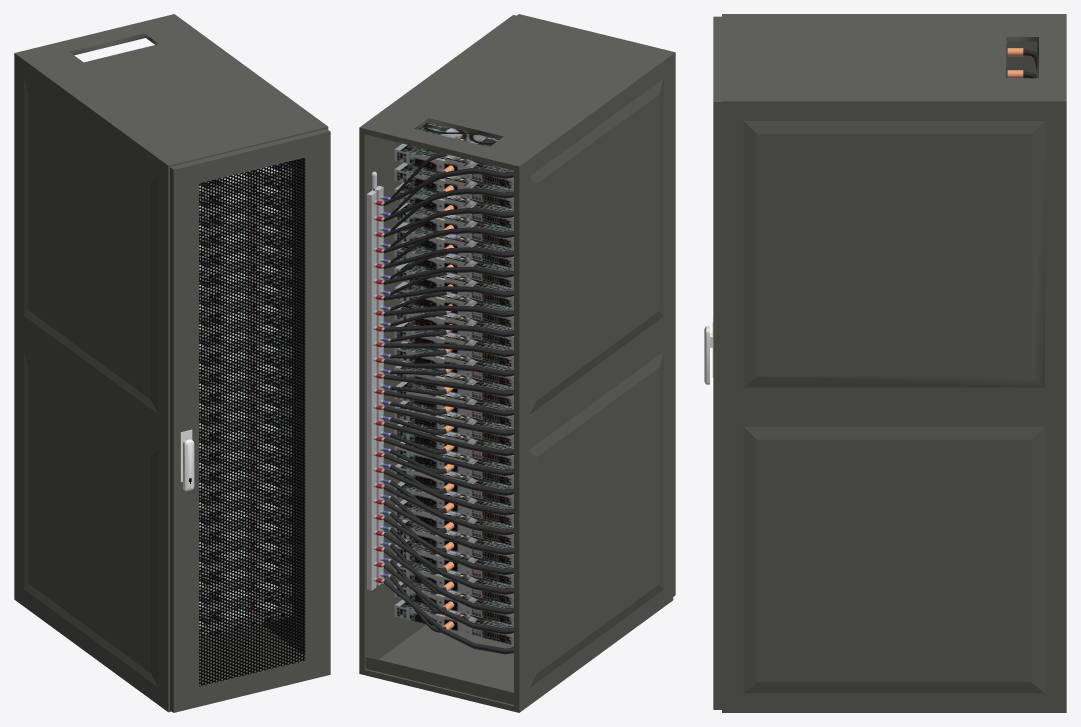
The model's file is server_rack.glb.
The picture shows the model from 3 angles, left to right: view 1: azimuth 30°, elevation 25°; view 2: azimuth 150°, elevation 25°; view 3: azimuth 270°, elevation 25°; orthographic projection. The views are drawn at different scales.
Parts seen in each view (by area): view 1: Server_Rack; view 2: Server_Rack; view 3: Server_Rack.
Part boxes in pixels (x1,y1,x2,y2): Server_Rack: (14, 14, 330, 712); Server_Rack: (359, 14, 675, 712); Server_Rack: (704, 14, 1066, 712).
Size of the model in its own units: 0.6144 by 1.96 by 1.05.
Materials: 2 (2 with a texture image).
